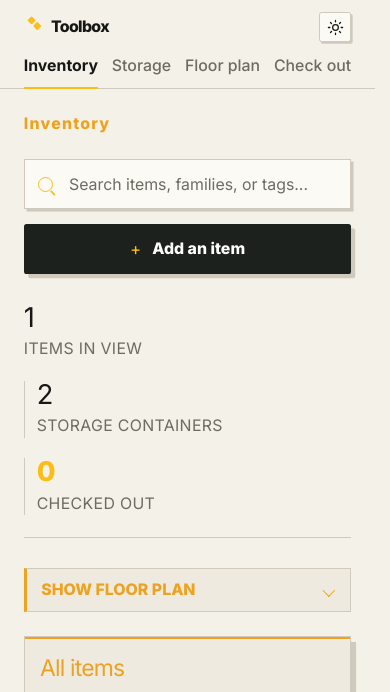
Test: inventory navigation › provides a collapsed floor plan control for the mobile inventory layout
Click the button "Show floor plan".
click(188, 590)  # box x1=24 y1=568 x2=351 y2=612
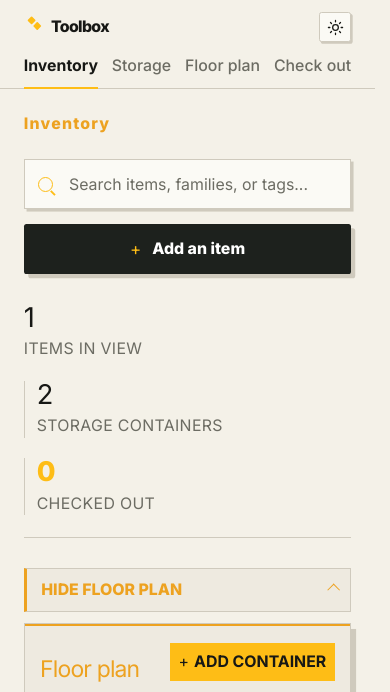
Expected: the button "Hide floor plan" is expanded, x1=24 y1=568 x2=351 y2=612
